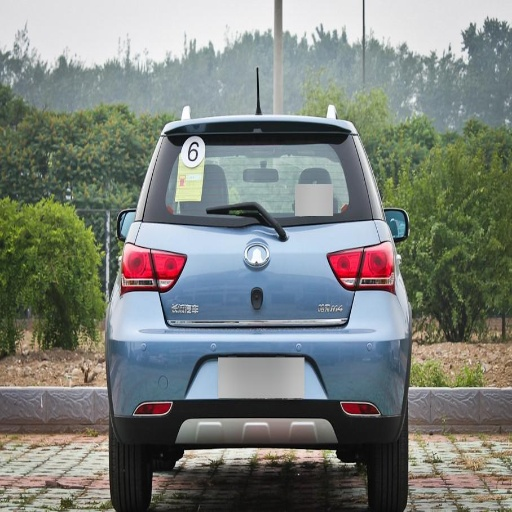back_bumper: (106, 289, 406, 443)
back_right_light: (355, 240, 394, 290)
trunk: (141, 222, 384, 327)
